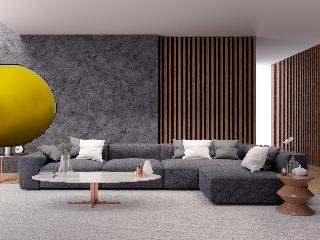lemon: (1, 65, 56, 148)
